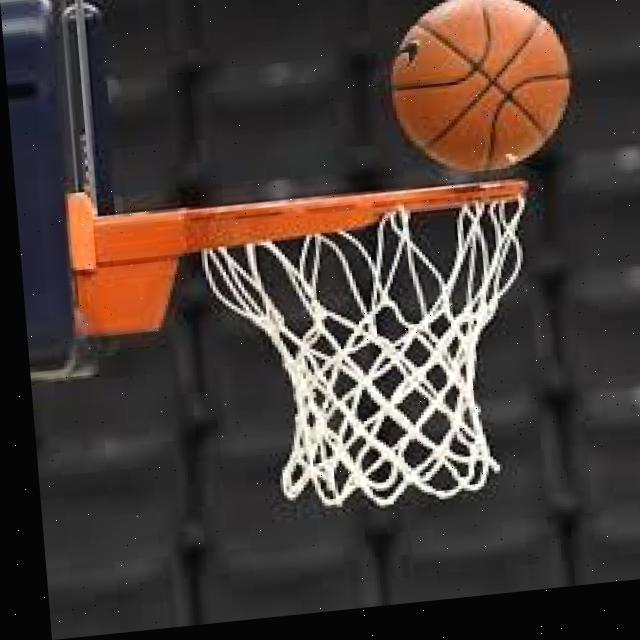basketball: (388, 0, 576, 179)
hoop: (189, 175, 554, 526)
